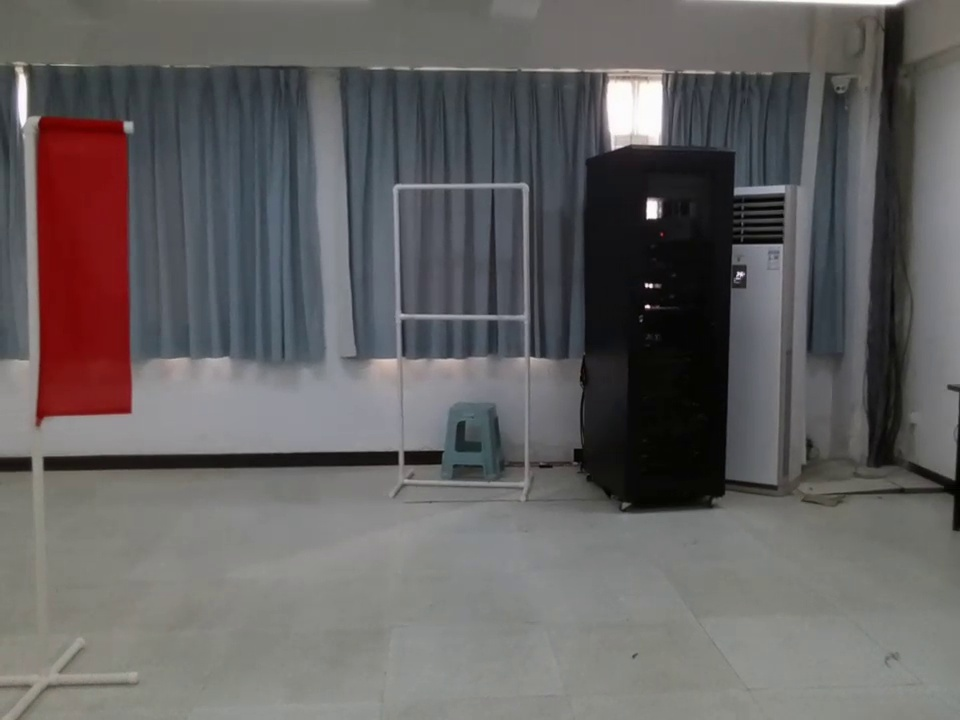qi: (15, 111, 143, 440)
